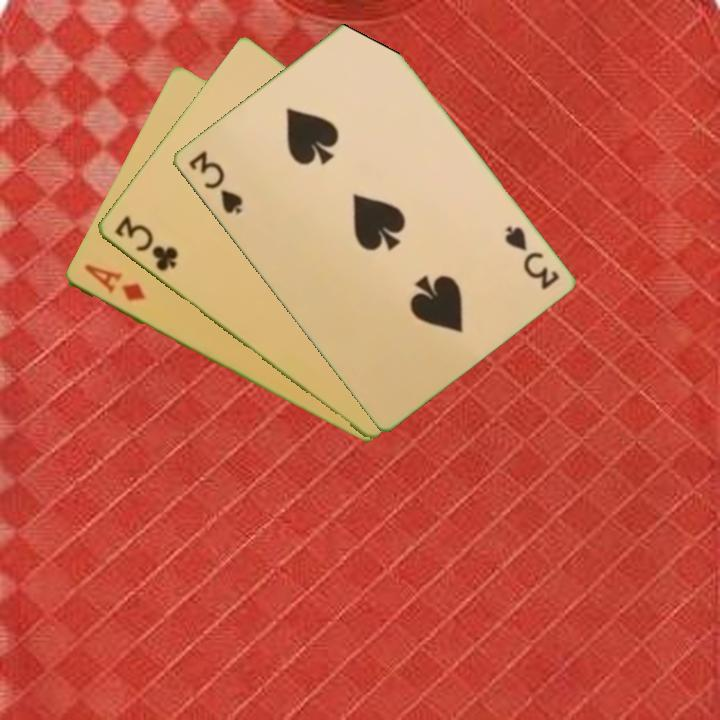3c: (110, 211, 181, 275)
3s: (500, 222, 562, 293), (184, 147, 245, 217)
Ad: (80, 261, 149, 304)
